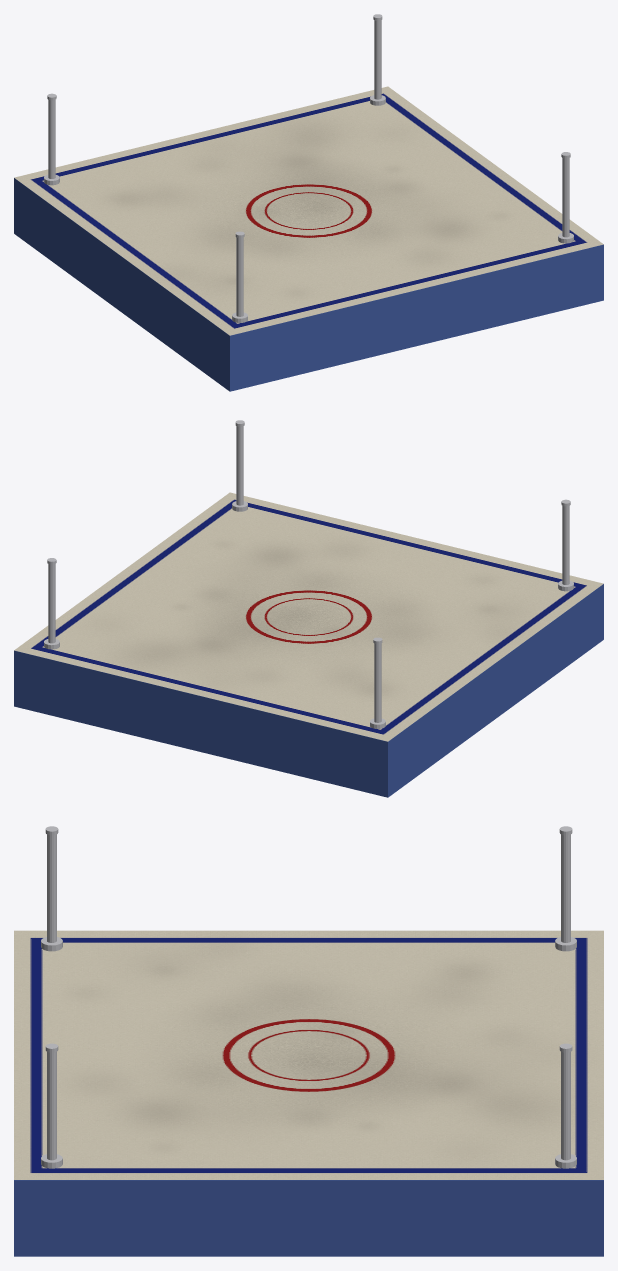
Rendered from BoxingRing.glb.
The picture shows the model from 3 angles, top to bottom: view 1: azimuth 30°, elevation 25°; view 2: azimuth 150°, elevation 25°; view 3: azimuth 270°, elevation 25°; orthographic projection. The views are drawn at different scales.
Parts seen in each view (by area): view 1: BoxingRing; view 2: BoxingRing; view 3: BoxingRing.
Part boxes in pixels (box(x1,y1,x2,y2)): BoxingRing: box(14, 14, 603, 391); BoxingRing: box(14, 420, 603, 797); BoxingRing: box(14, 826, 603, 1256).
Size of the model in its own units: 7 by 2.55 by 7.
3 materials, 1 textured.
